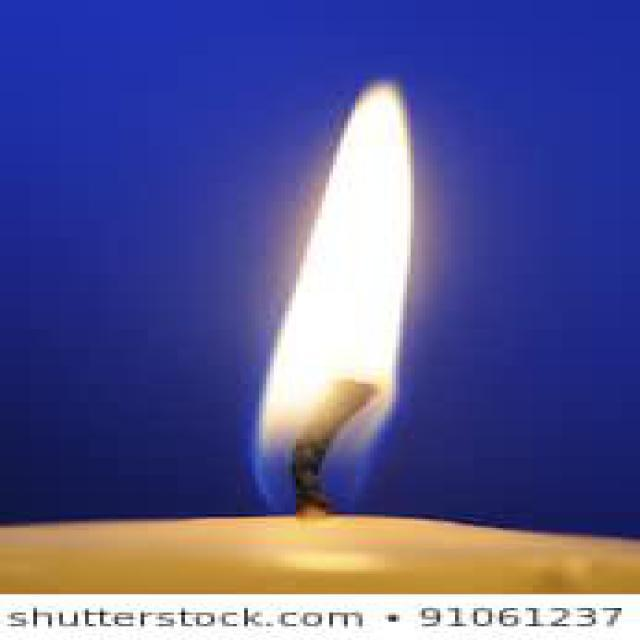Fire: (250, 79, 412, 504)
